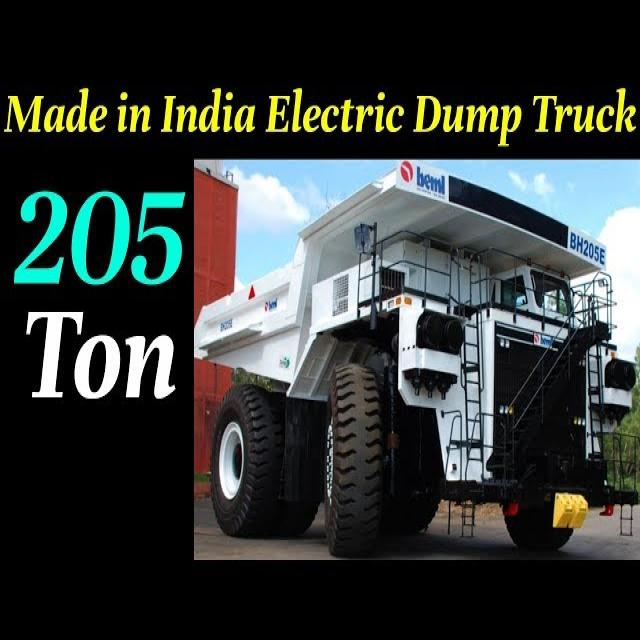truck: (195, 160, 635, 557)
